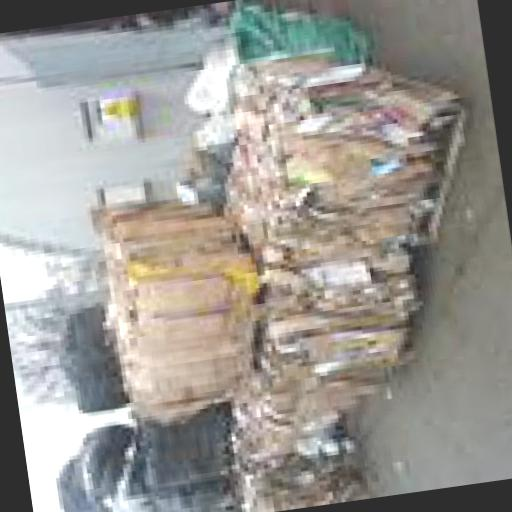cardboard: (204, 28, 470, 264), (211, 144, 432, 410), (82, 178, 268, 422), (107, 241, 268, 419), (220, 384, 356, 470), (275, 112, 399, 200), (256, 348, 382, 421), (232, 444, 362, 512), (171, 44, 242, 110), (169, 144, 227, 202), (188, 106, 242, 160)
paper: (121, 406, 231, 512), (216, 0, 365, 74), (45, 413, 156, 512), (54, 300, 128, 412)
